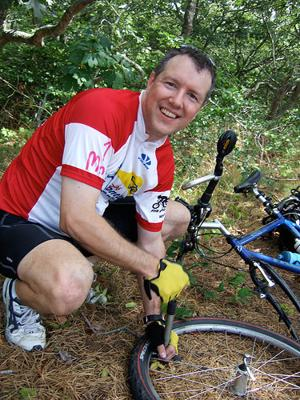person: (1, 43, 215, 365)
